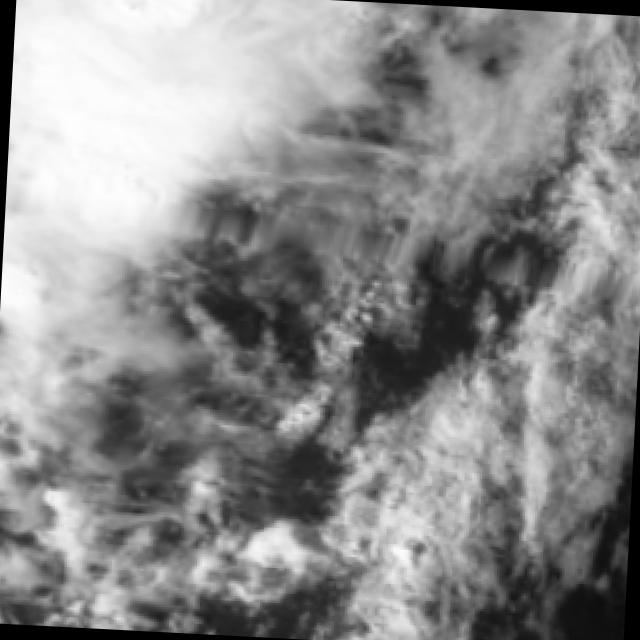CB: (10, 0, 269, 134), (6, 0, 173, 207)
